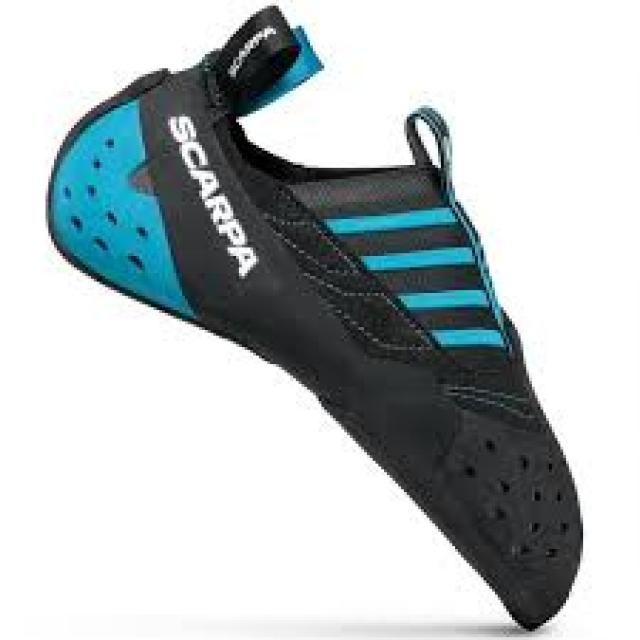climbing-shoes: (44, 5, 591, 633)
